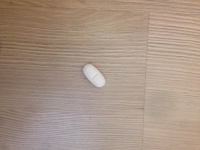Centik Buskopan: (81, 62, 106, 88)
